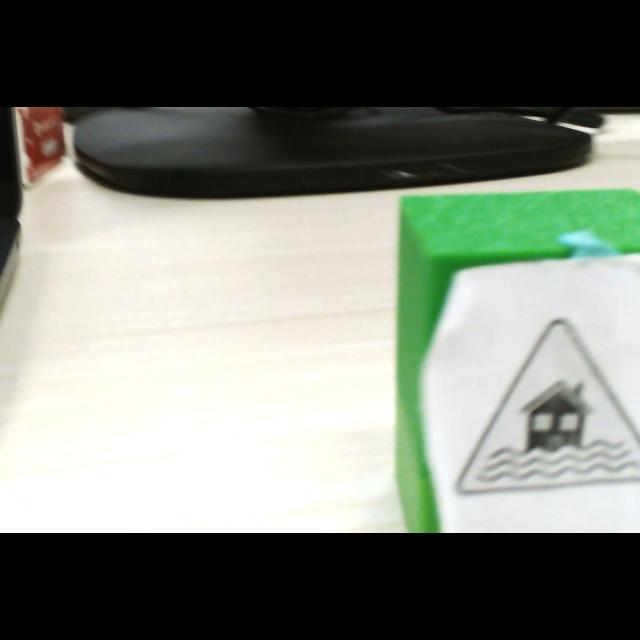Tsunami: (457, 320, 640, 495)
